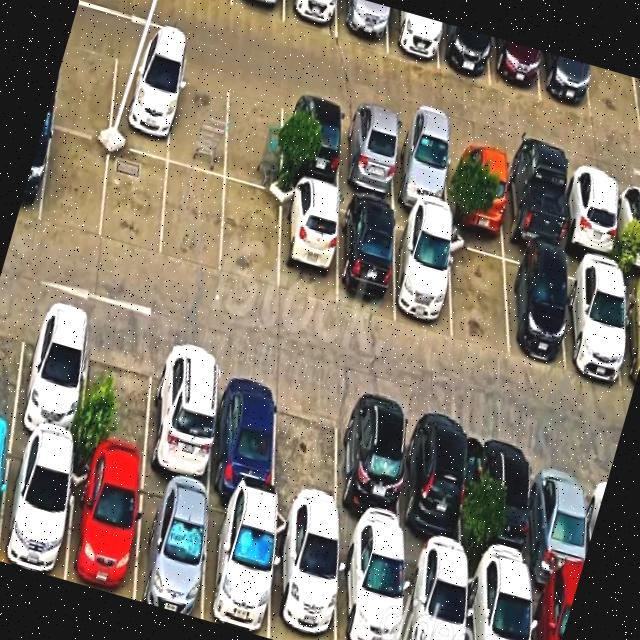empty: (79, 318, 155, 471), (274, 376, 339, 526), (40, 127, 110, 239), (101, 145, 167, 259), (52, 27, 118, 140), (450, 230, 508, 354), (160, 162, 224, 273), (224, 75, 284, 193), (168, 60, 228, 176), (220, 181, 279, 290), (0, 291, 28, 429), (586, 63, 640, 132)
occupied: (12, 298, 91, 450), (145, 338, 219, 489), (66, 454, 141, 599), (134, 473, 208, 619), (0, 434, 74, 579), (202, 493, 274, 638), (210, 356, 279, 505), (339, 393, 406, 544), (404, 409, 466, 562), (269, 511, 336, 640), (476, 428, 532, 578), (109, 42, 178, 160), (532, 444, 587, 590), (564, 256, 624, 384), (279, 181, 338, 305), (504, 244, 564, 365), (336, 196, 395, 318), (395, 212, 451, 338), (338, 532, 402, 640), (505, 150, 562, 253), (403, 546, 465, 640), (283, 91, 341, 190), (450, 135, 504, 235), (341, 105, 395, 204), (394, 119, 448, 216), (565, 165, 616, 262), (468, 563, 529, 640), (17, 120, 52, 223), (540, 50, 590, 116), (438, 21, 489, 85), (490, 36, 540, 100), (387, 6, 438, 68), (530, 579, 576, 640), (336, 0, 386, 51), (621, 270, 640, 392), (617, 178, 640, 267), (283, 0, 338, 37), (232, 0, 284, 22)
